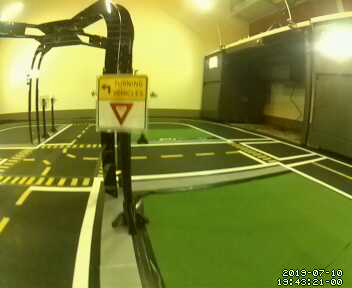Turn Yield: (95, 73, 149, 132)
